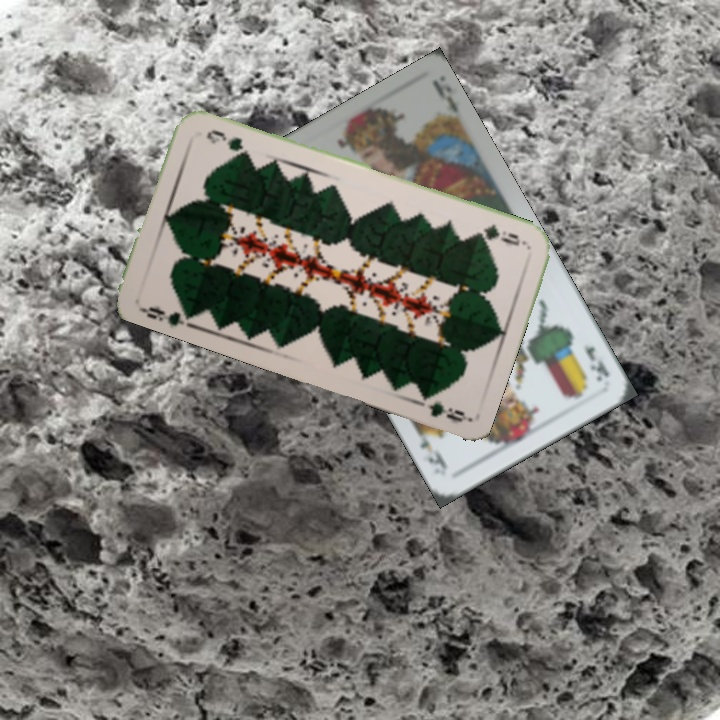EK: (579, 341, 612, 385)
G9: (469, 219, 529, 249), (135, 302, 196, 330)
